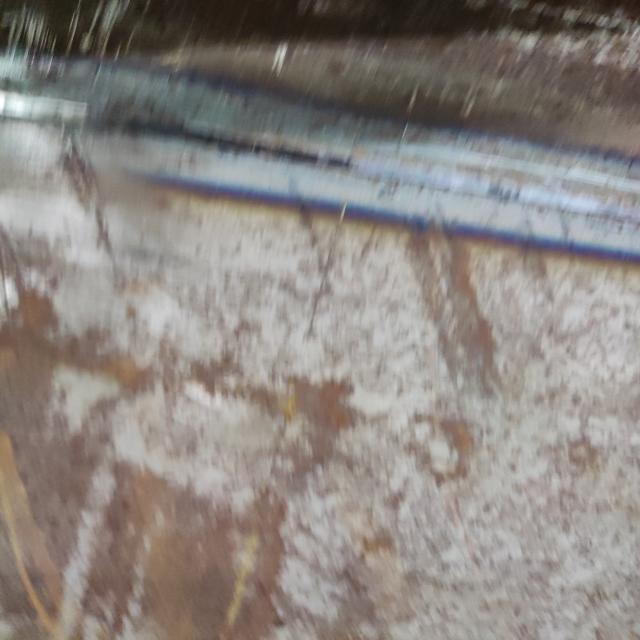seam: (0, 35, 640, 280)
